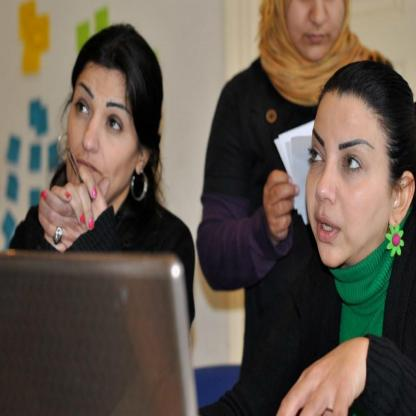board: (1, 236, 203, 416)
